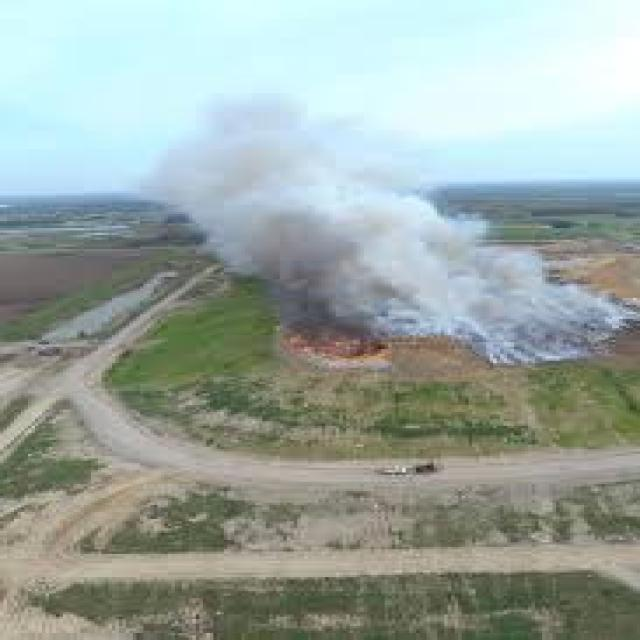Smoke: (94, 80, 631, 372)
